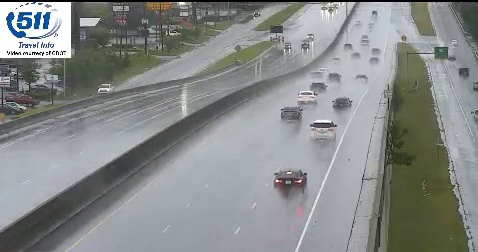car: (273, 169, 307, 190), (310, 120, 334, 142), (280, 107, 301, 121), (297, 90, 316, 104), (332, 97, 351, 110)
